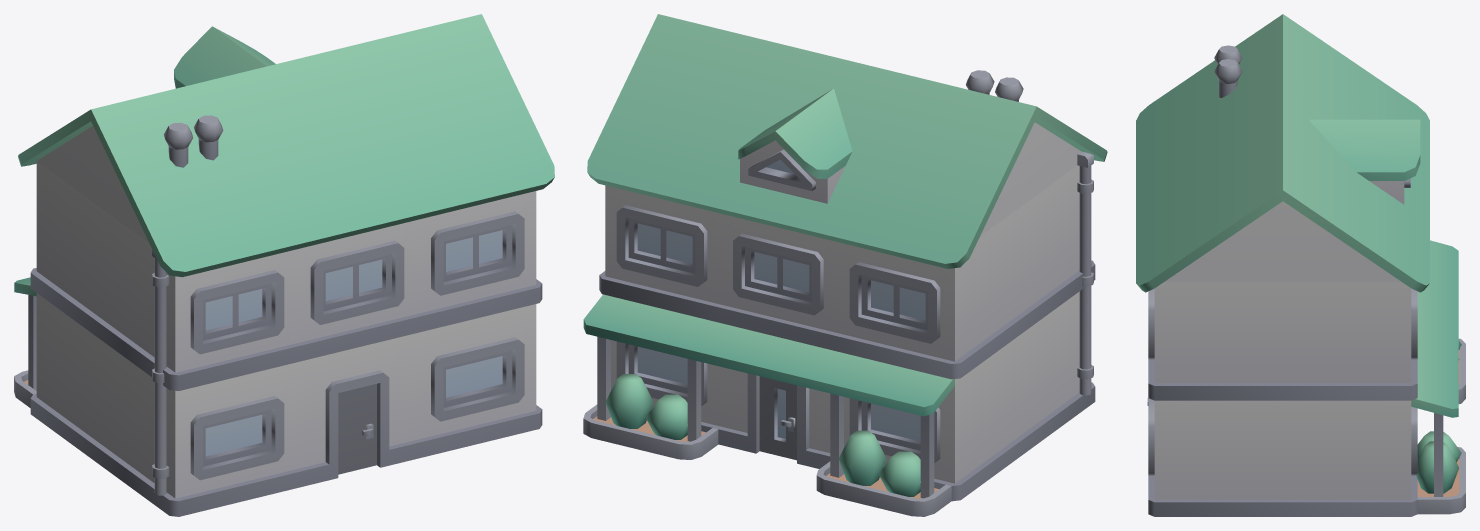
File: building-type-e.glb
3 views of the same model, side by side, from view 1: azimuth 30°, elevation 25°; view 2: azimuth 150°, elevation 25°; view 3: azimuth 270°, elevation 25° (orthographic). The views are drawn at different scales.
Visible parts, largest first — view 1: building-type-e; view 2: building-type-e; view 3: building-type-e.
Part boxes in pixels (left/top/right/bottom): building-type-e: left=14, top=14, right=554, bottom=516; building-type-e: left=583, top=14, right=1107, bottom=516; building-type-e: left=1136, top=14, right=1465, bottom=516.
Size of the model in its own units: 1.3 by 1.14 by 1.03.
